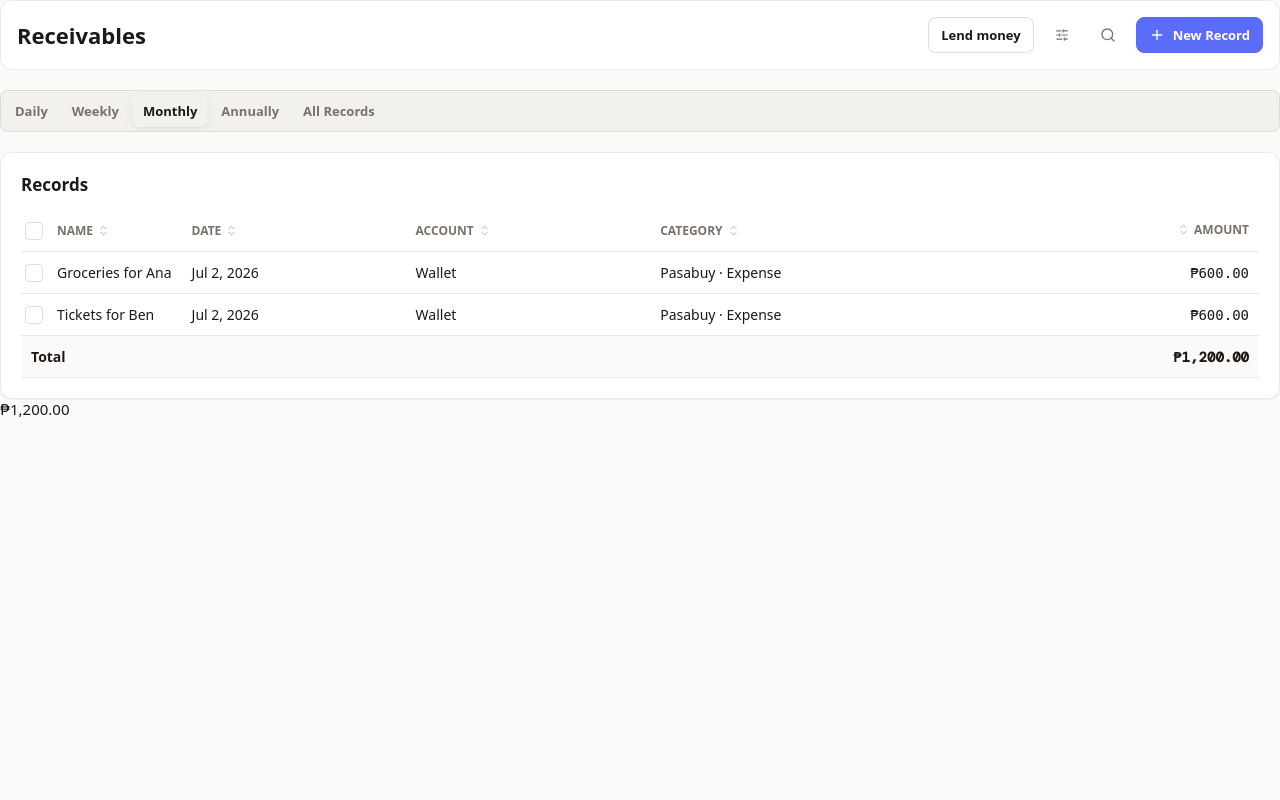
Test case: Receivables Pasabuy details and selection › bulk edits only Pasabuy fields on the original Expense IDs and removes fully received rows
The width and height of the screenshot is (1280, 800).
Expected: the text "Groceries for Ana" is shown, top-left (21, 252), bottom-right (182, 294)
What coordinates should you click on to do the following:
click the button named "Select all rows"
I would click on:
 (34, 230)
Its box is top-left (25, 222), bottom-right (43, 240).
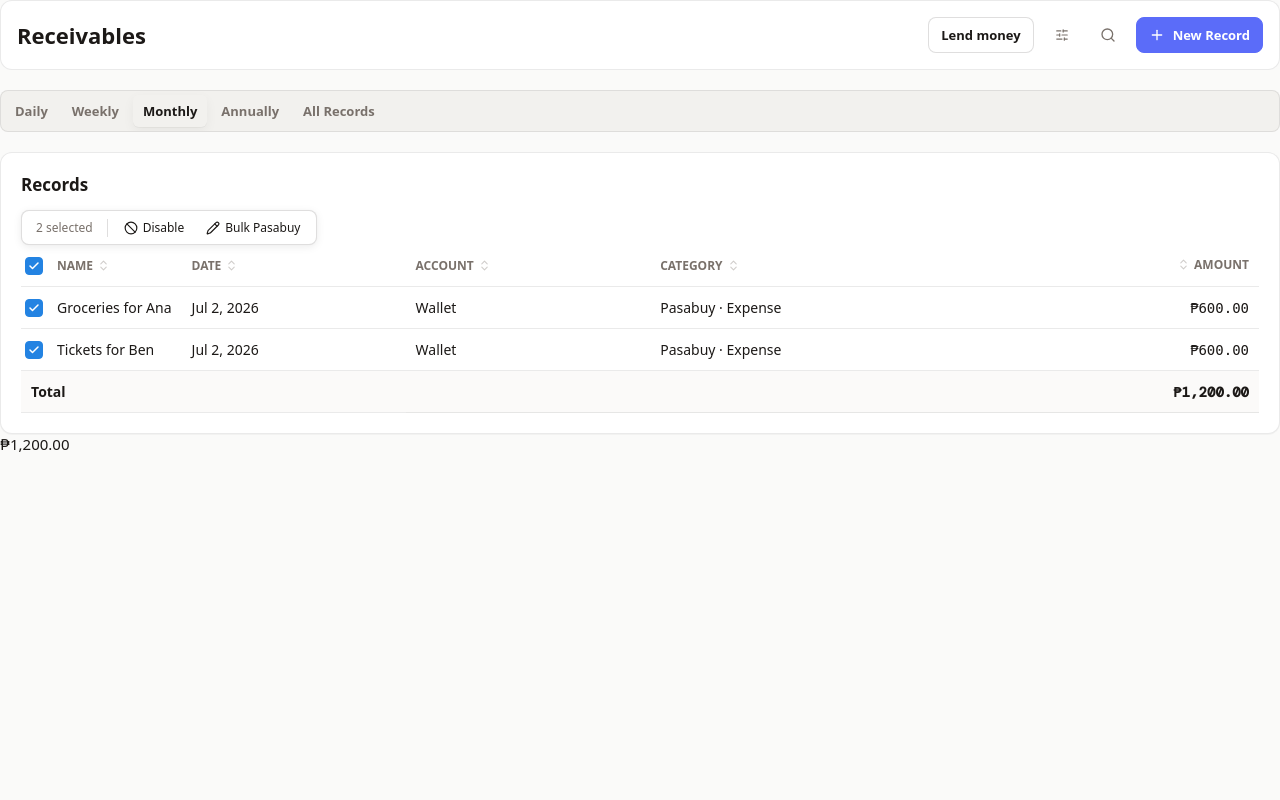
What coordinates should you click on to do the following:
click the button "Bulk Pasabuy"
I would click on:
 (253, 228)
Its box is top-left (196, 215), bottom-right (310, 240).
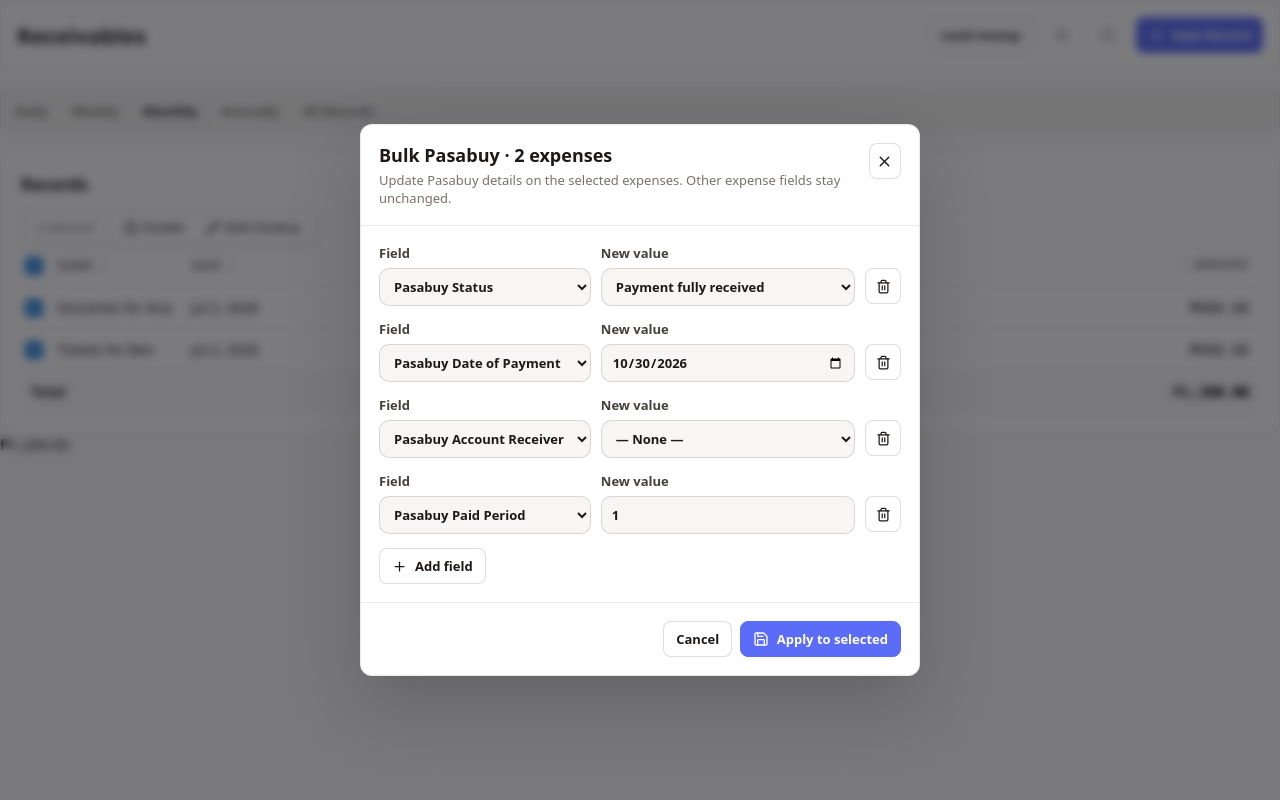
What coordinates should you click on to do the following:
click the button "Apply to selected"
I would click on:
 (820, 639)
Its box is top-left (740, 621), bottom-right (901, 657).
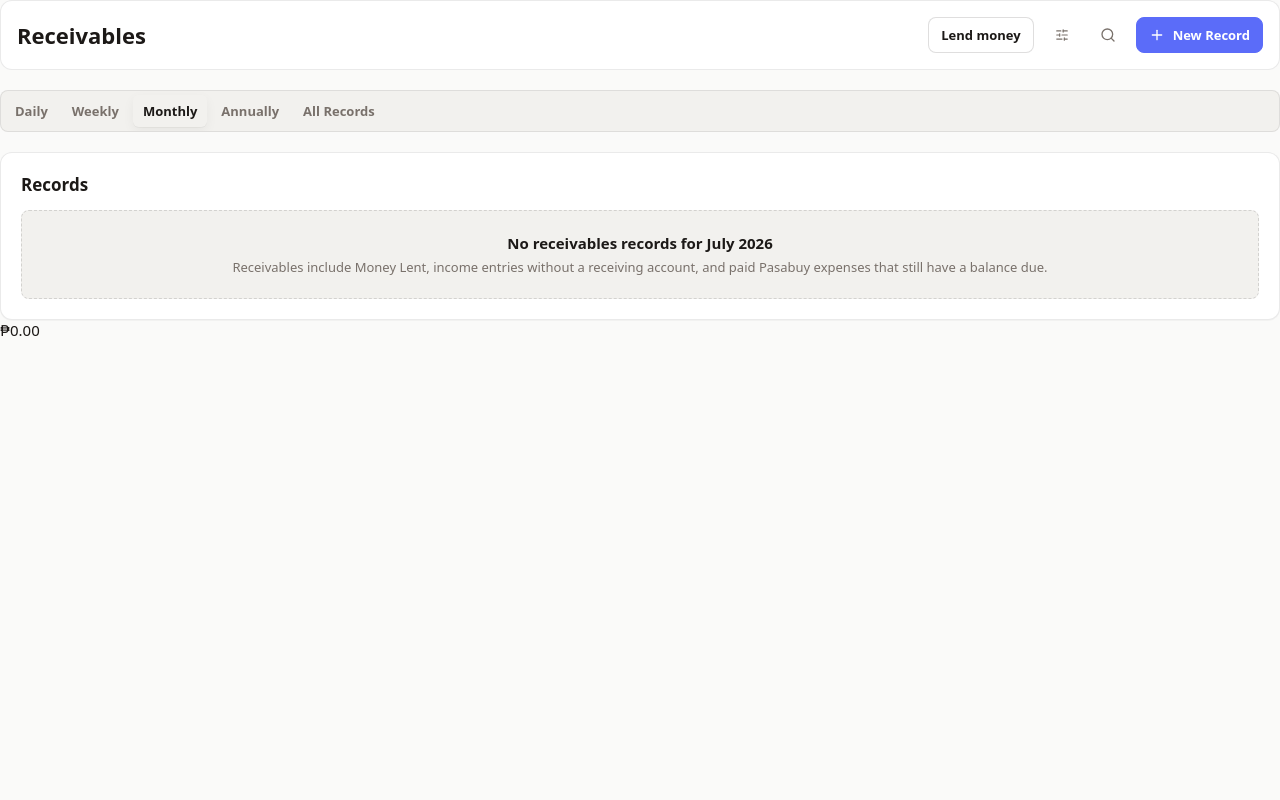
Now the dialog is gone
Now the table is gone
Now the text "selected" is gone
